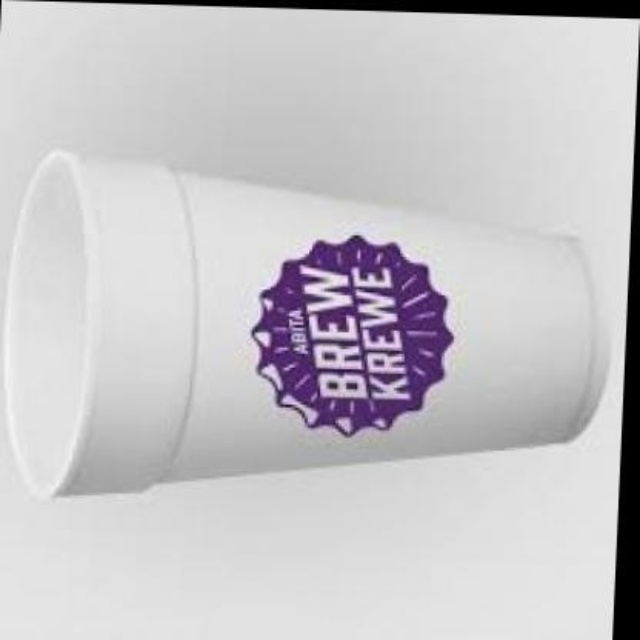trash: (5, 151, 600, 495)
